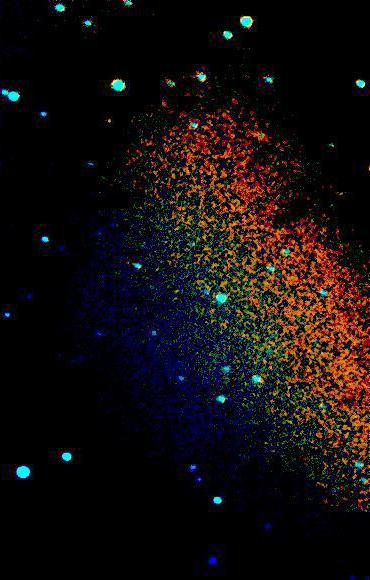star: (92, 106, 122, 136)
